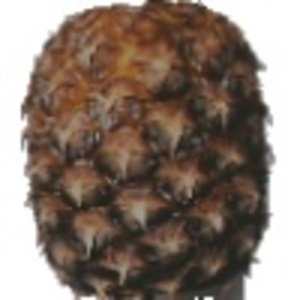abacaxi: (21, 1, 275, 297)
